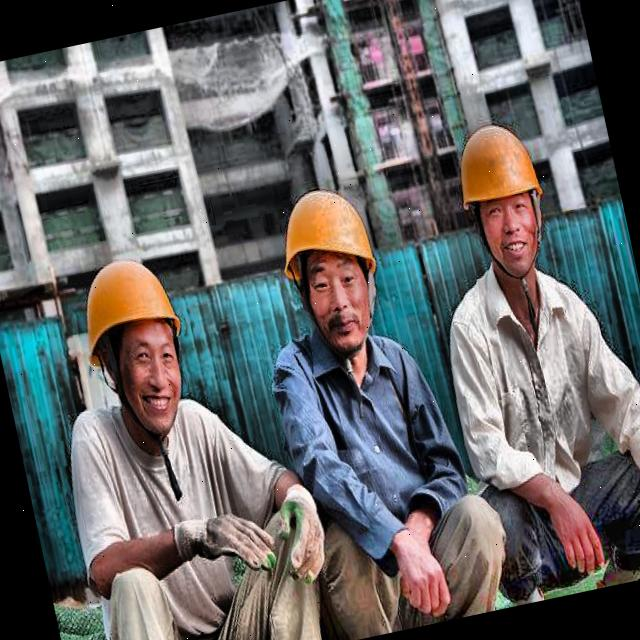helmet: (60, 232, 216, 458), (256, 156, 406, 376), (432, 90, 576, 302)
